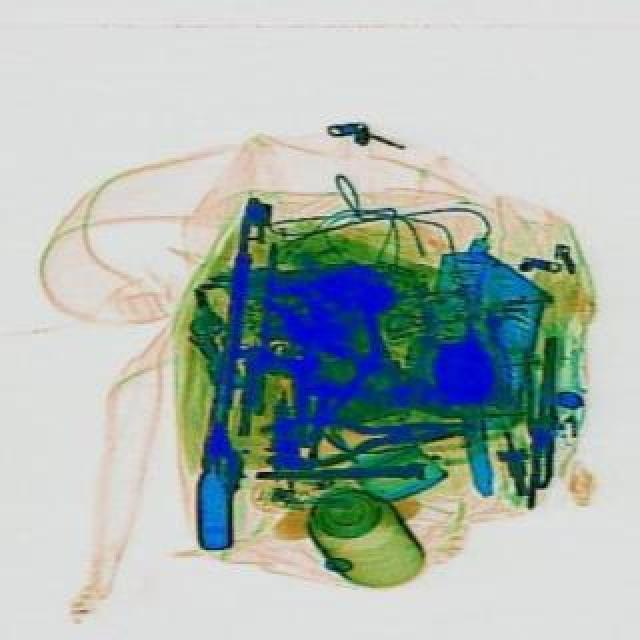wrench: (254, 398, 466, 474)
